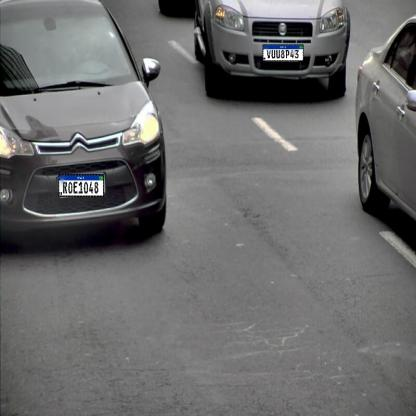PlacaM: (58, 174, 104, 197), (262, 44, 304, 61)
